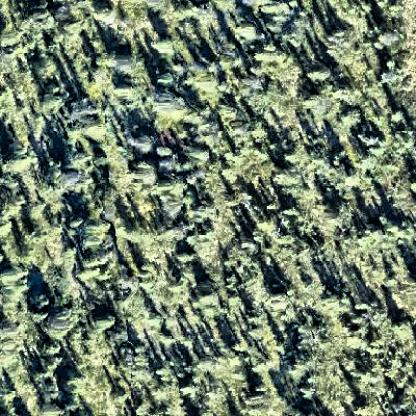tree-top: (110, 43, 145, 78), (119, 338, 152, 374), (76, 245, 113, 277), (326, 21, 359, 56), (42, 309, 77, 342), (157, 174, 187, 212), (160, 88, 191, 124), (282, 349, 316, 381), (2, 26, 31, 62), (113, 78, 149, 106), (239, 227, 270, 259), (319, 65, 352, 95), (182, 1, 218, 28), (320, 288, 352, 318), (79, 222, 113, 250), (37, 83, 67, 114), (374, 22, 406, 51), (1, 144, 31, 174), (331, 75, 362, 104), (83, 115, 114, 144), (268, 282, 298, 311), (276, 161, 306, 190), (387, 215, 416, 245), (161, 217, 191, 246), (193, 61, 222, 91), (171, 1, 207, 25), (234, 19, 266, 46), (90, 307, 119, 336), (60, 10, 89, 39), (131, 159, 160, 187), (64, 367, 92, 396), (63, 148, 93, 175), (127, 129, 156, 156), (32, 54, 59, 82), (33, 3, 58, 33), (190, 196, 217, 223), (360, 130, 386, 158), (329, 198, 355, 224), (92, 1, 119, 26), (193, 286, 220, 311), (185, 143, 213, 167), (123, 217, 149, 242), (136, 260, 162, 285), (154, 32, 181, 56), (151, 381, 177, 405), (307, 63, 334, 86), (1, 194, 21, 225), (392, 314, 416, 339), (248, 381, 273, 405), (107, 383, 131, 407), (296, 382, 322, 403), (39, 338, 66, 358), (26, 198, 48, 221), (196, 355, 219, 377), (173, 248, 198, 268), (155, 69, 178, 90), (245, 69, 267, 90), (30, 288, 51, 309), (251, 376, 273, 396), (352, 398, 376, 416), (1, 266, 20, 287), (1, 385, 18, 406), (210, 1, 236, 14), (161, 331, 180, 348), (390, 107, 406, 123)
